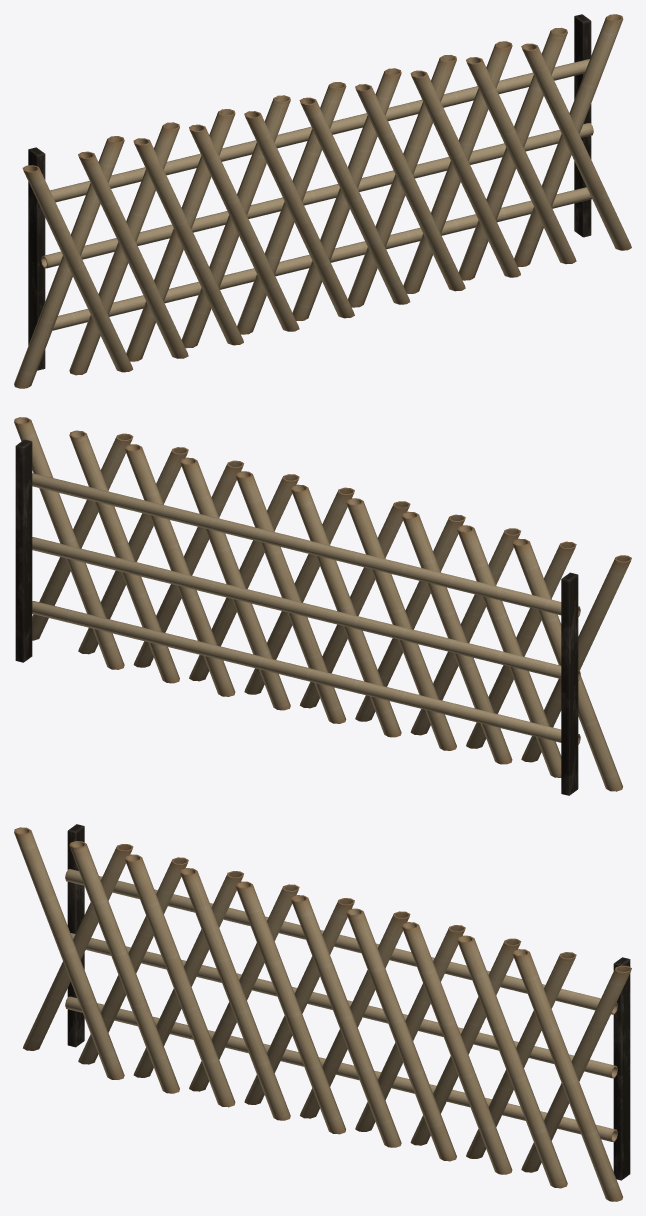
The model's file is SmallFence1.fbx.
3 renders of one model, top to bottom at view 1: azimuth 30°, elevation 25°; view 2: azimuth 150°, elevation 25°; view 3: azimuth 330°, elevation 25°, orthographic.
Visible parts, largest first — view 1: SmallFence1; view 2: SmallFence1; view 3: SmallFence1.
Part boxes in pixels (bbox=[...]): SmallFence1: bbox=[14, 14, 631, 388]; SmallFence1: bbox=[14, 417, 631, 795]; SmallFence1: bbox=[14, 824, 631, 1201].
Bounding box in the file's own units: 2.19 × 0.769 × 0.2065.
